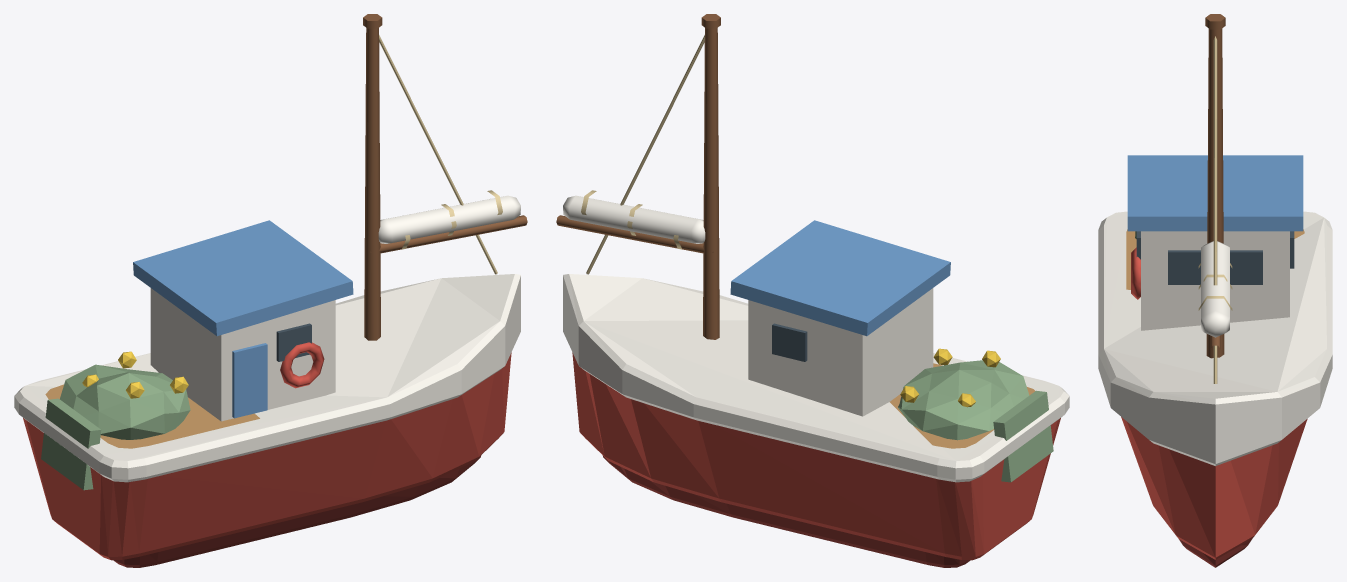
The model's file is fishing_boat.glb.
The picture shows the model from 3 angles, left to right: view 1: azimuth 30°, elevation 25°; view 2: azimuth 150°, elevation 25°; view 3: azimuth 270°, elevation 25°; orthographic projection. The views are drawn at different scales.
Visible parts, largest first — view 1: hull, hull_trim, cabin_roof, cabin, fishing_net, mast, hull_bottom, sail_folded, net_drape, cabin_door, deck, boom (+3 smaller); view 2: hull_trim, hull, cabin_roof, cabin, fishing_net, mast, hull_bottom, sail_folded, net_drape, boom, cabin_window_side_back, forestay (+1 smaller); view 3: hull_trim, hull, cabin_roof, cabin, mast, sail_folded, cabin_window_front, forestay, hull_bottom, deck, lifebuoy.
Part boxes in pixels (x1,y1,x2,y2): hull: (23, 352, 511, 560); hull_trim: (14, 274, 520, 482); cabin_roof: (133, 220, 353, 336); cabin: (150, 288, 335, 421); fishing_net: (60, 364, 190, 439); mast: (364, 28, 380, 340); hull_bottom: (113, 455, 481, 567); sail_folded: (378, 195, 520, 243); net_drape: (41, 398, 101, 490); cabin_door: (232, 343, 267, 418); deck: (45, 384, 259, 448); boom: (370, 215, 527, 253); hull_trim: (563, 274, 1069, 482); hull: (572, 352, 1060, 560); cabin_roof: (730, 220, 950, 336); cabin: (748, 288, 933, 416); fishing_net: (898, 360, 1029, 440); mast: (703, 28, 719, 339); hull_bottom: (602, 455, 970, 567); sail_folded: (563, 195, 705, 243); net_drape: (993, 390, 1053, 482); boom: (556, 215, 713, 253); cabin_window_side_back: (772, 323, 807, 361); forestay: (586, 35, 704, 274); hull_trim: (1098, 211, 1332, 465); hull: (1121, 417, 1307, 559); cabin_roof: (1127, 155, 1303, 231); cabin: (1141, 231, 1289, 330); mast: (1206, 28, 1224, 358); sail_folded: (1201, 241, 1229, 337); cabin_window_front: (1168, 250, 1262, 284); forestay: (1213, 36, 1217, 383); hull_bottom: (1179, 539, 1251, 567); deck: (1126, 229, 1304, 289); lifebuoy: (1131, 247, 1140, 299).
Bounding box in the file's own units: 2.53 × 2.43 × 1.04.
